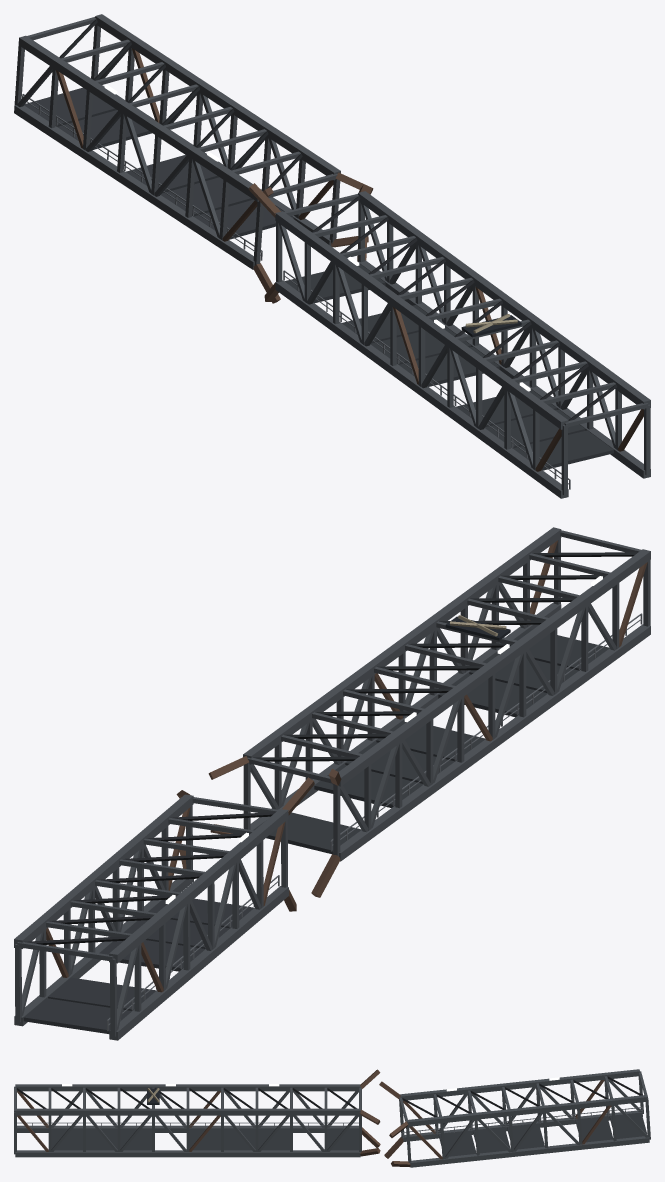
File: sb_truss.glb
3 renders of one model, top to bottom at view 1: azimuth 30°, elevation 25°; view 2: azimuth 150°, elevation 25°; view 3: azimuth 270°, elevation 25°, orthographic. The views are drawn at different scales.
Parts seen in each view (by area): view 1: sb_truss_body; view 2: sb_truss_body; view 3: sb_truss_body.
Boxes of the visible parts, x1=… form: sb_truss_body: x1=14, y1=14, x2=650, y2=498; sb_truss_body: x1=14, y1=527, x2=650, y2=1040; sb_truss_body: x1=14, y1=1069, x2=650, y2=1167.
Size of the model in its own units: 18.53 by 15.41 by 111.
